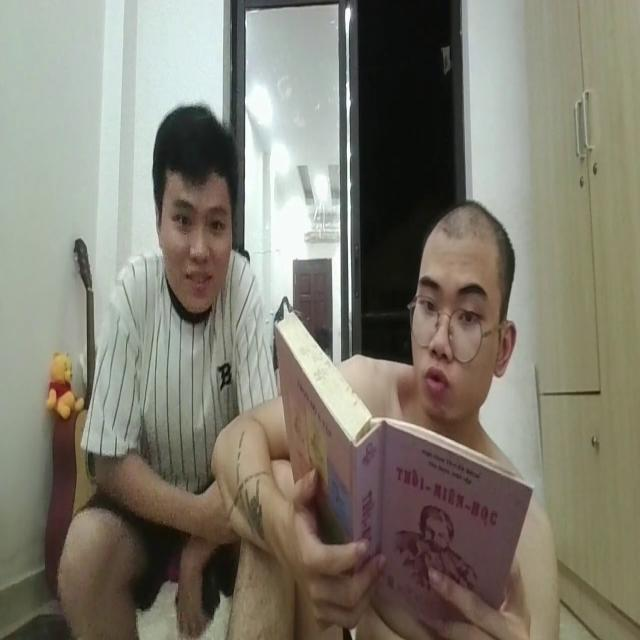book: (268, 295, 527, 626)
extra_person: (55, 111, 272, 640)
student: (217, 182, 561, 640)
